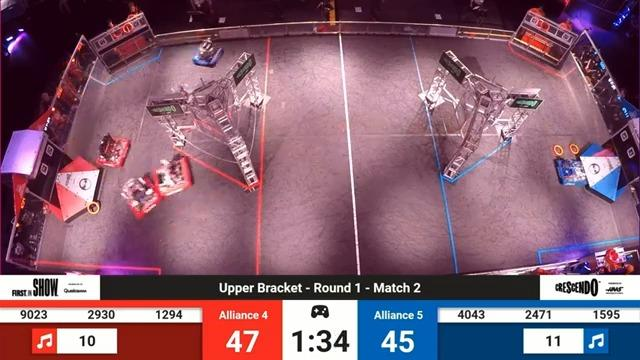robot: (144, 151, 203, 193), (548, 153, 598, 193), (116, 176, 163, 217), (96, 127, 139, 168), (164, 74, 206, 113), (194, 36, 231, 74)
